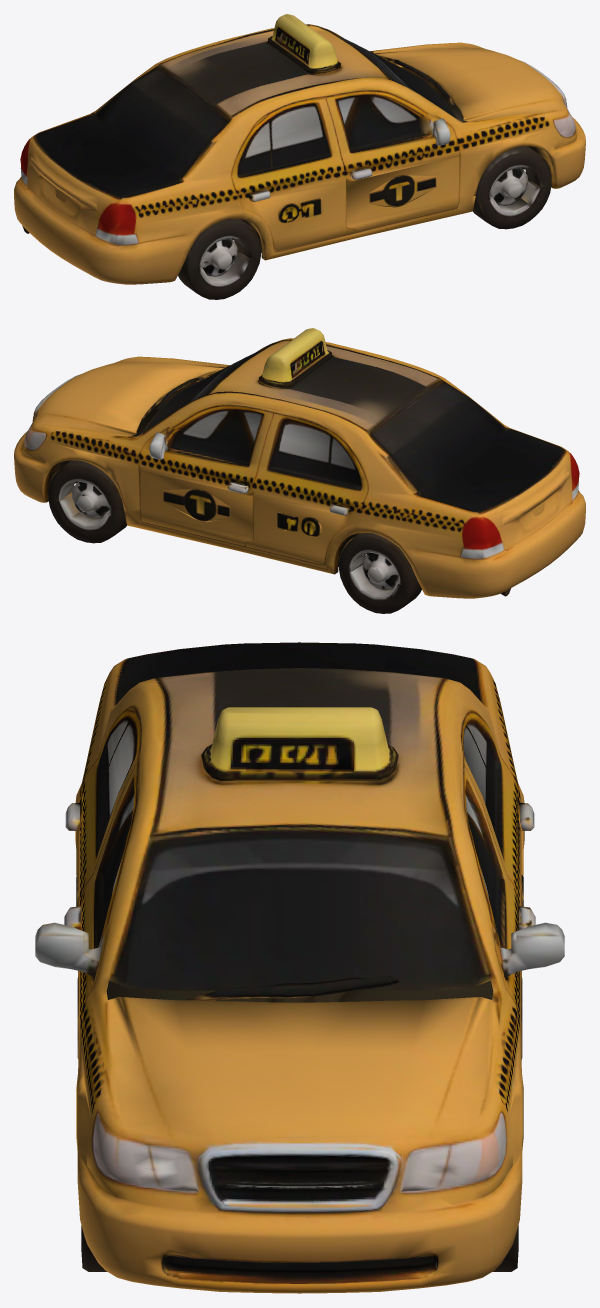
Rendered from a_taxi_cab_88be8bf6_v3.glb.
The picture shows the model from 3 angles, top to bottom: view 1: azimuth 30°, elevation 25°; view 2: azimuth 150°, elevation 25°; view 3: azimuth 270°, elevation 25°; orthographic projection. The views are drawn at different scales.
Parts seen in each view (by area): view 1: material; view 2: material; view 3: material.
Part boxes in pixels (x1,y1,x2,y2): material: (14,14,585,299); material: (14,328,585,613); material: (35,642,564,1293).
Size of the model in its own units: 1.9 by 0.7108 by 0.8533.
Materials: 1 (1 with a texture image).
